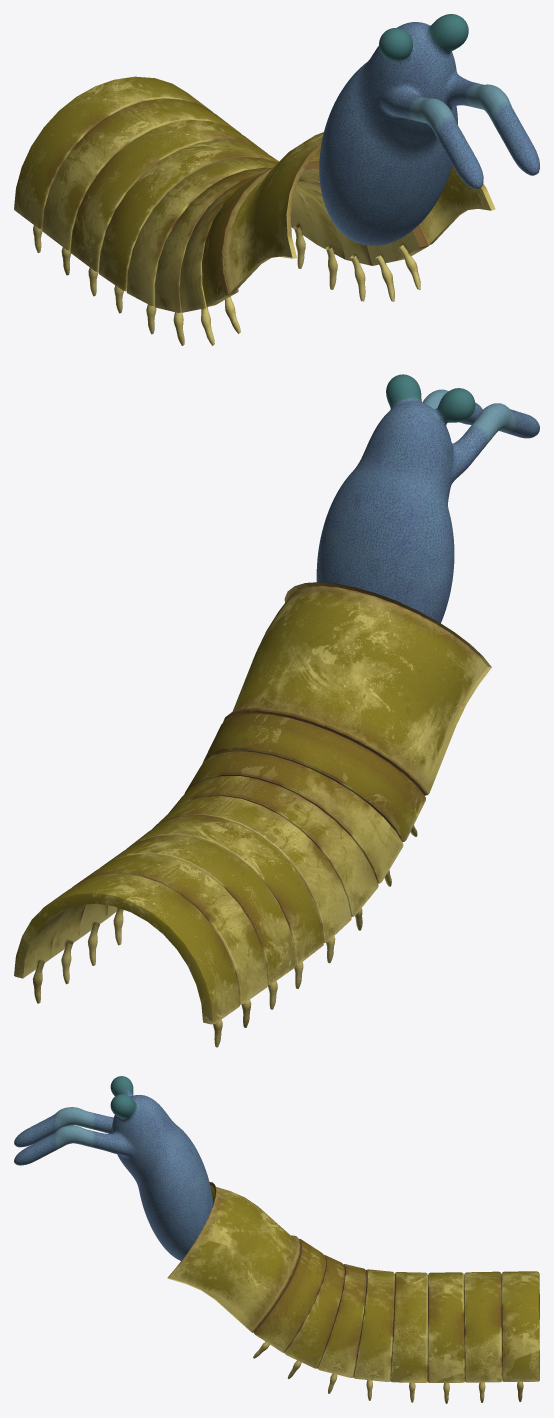
File: mantisShrimp.gltf
3 renders of one model, top to bottom at view 1: azimuth 30°, elevation 25°; view 2: azimuth 150°, elevation 25°; view 3: azimuth 270°, elevation 25°, orthographic. The views are drawn at different scales.
Parts seen in each view (by area): view 1: mantisShrimp; view 2: mantisShrimp; view 3: mantisShrimp.
Part boxes in pixels (x1,y1,x2,y2): mantisShrimp: [14, 14, 539, 345]; mantisShrimp: [14, 374, 539, 1047]; mantisShrimp: [14, 1076, 539, 1403].
Bounding box in the file's own units: 2 × 4.07 × 6.77.
Materials: 2 (2 with a texture image).
